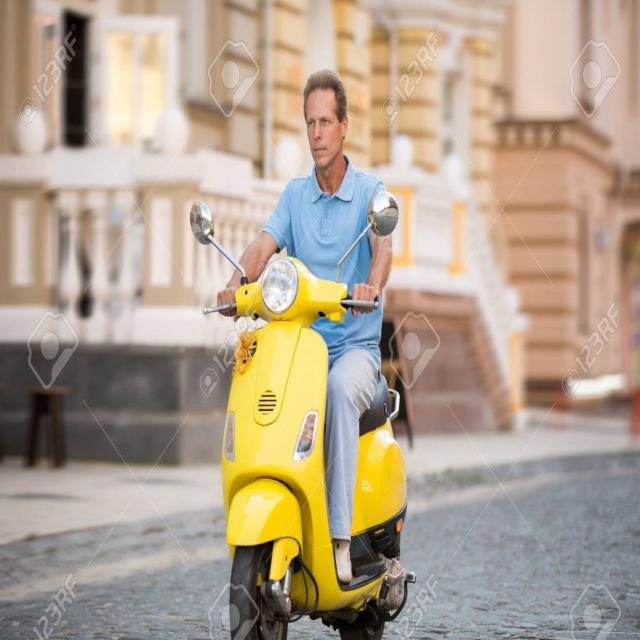Not Wearing Helmet: (284, 19, 366, 205)
